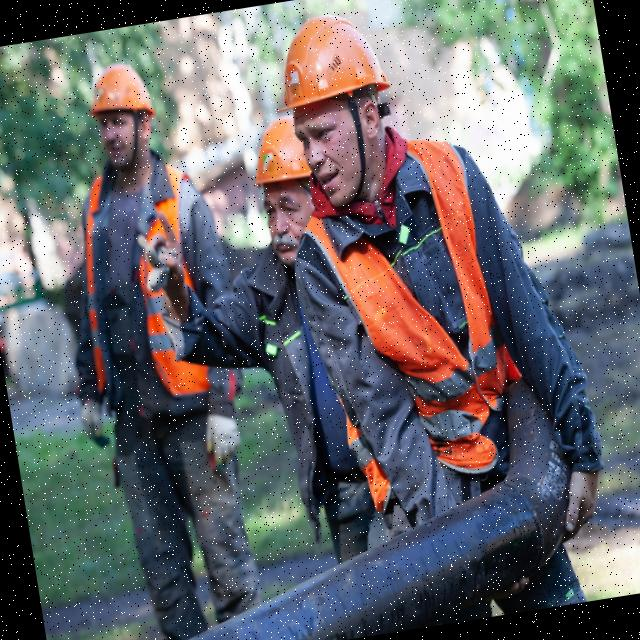Helmet: (264, 7, 395, 122), (245, 114, 313, 193), (84, 59, 155, 125)
Jacket: (316, 165, 516, 486), (67, 147, 217, 408)
